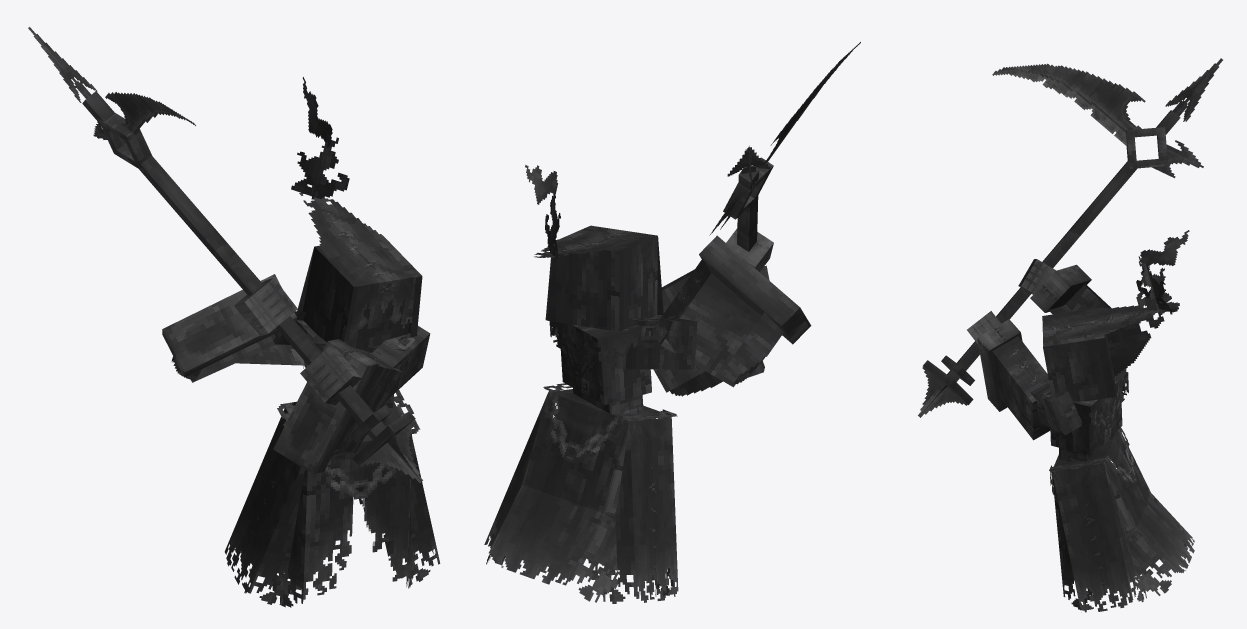
The model's file is Wraith_Statue_Trophy_Burnt_Trunk.glb.
3 views of the same model, side by side, from view 1: azimuth 30°, elevation 25°; view 2: azimuth 150°, elevation 25°; view 3: azimuth 270°, elevation 25° (orthographic). The views are drawn at different scales.
Parts seen in each view (by area): view 1: Head, Handle, Cloth-Front, L-Sleeve, R-Sleeve, Cloth-Front2, Hood-Back, Cloth-R2, Cloth-R, R-Hand, L-Hand, Cloth-R2-Front (+16 smaller); view 2: Head, Cloth-Back2, Cloth-Back, R-Forearm, Cloth-R, R-Sleeve, Cloth-R2, R-Arm, Chest, Chest-Hood, Cloth-Back2-R, Belt-Back (+19 smaller); view 3: Cloth-L, Hood-L, Cloth-L2, L-Forearm, Handle, Blade_Top, Cloth-Back2, Cloth-Back, Hood-Back2, Chest, L-Arm, Hood-Back (+22 smaller).
Boxes of the visible parts, x1,y1,x2,y2 form: Head: (303, 235, 422, 343); Handle: (82, 91, 386, 439); Cloth-Front: (305, 434, 411, 536); L-Sleeve: (273, 339, 378, 473); R-Sleeve: (162, 274, 296, 377); Cloth-Front2: (303, 521, 408, 599); Hood-Back: (299, 181, 392, 258); Cloth-R2: (224, 485, 275, 593); Cloth-R: (252, 408, 300, 527); R-Hand: (234, 278, 297, 336); L-Hand: (300, 346, 364, 405); Cloth-R2-Front: (248, 528, 301, 604); Head: (552, 225, 657, 331); Cloth-Back2: (489, 484, 603, 585); Cloth-Back: (522, 392, 629, 513); R-Forearm: (652, 259, 761, 387); Cloth-R: (629, 417, 675, 517); R-Sleeve: (699, 235, 811, 344); Cloth-R2: (633, 512, 678, 602); R-Arm: (610, 318, 697, 369); Chest: (560, 327, 651, 404); Chest-Hood: (549, 317, 649, 369); Cloth-Back2-R: (571, 513, 619, 602); Belt-Back: (544, 390, 626, 463); Cloth-L: (1052, 462, 1119, 546); Hood-L: (1043, 336, 1115, 401); Cloth-L2: (1067, 538, 1132, 612); L-Forearm: (992, 336, 1050, 440); Handle: (947, 110, 1180, 381); Blade_Top: (1001, 63, 1145, 132); Cloth-Back2: (1136, 493, 1194, 573); Cloth-Back: (1104, 430, 1150, 527); Hood-Back2: (1106, 305, 1179, 375); Chest: (1050, 399, 1122, 455); L-Arm: (1030, 382, 1082, 435); Hood-Back: (1084, 301, 1179, 339).
Bounding box in the file's own units: 10.07 × 17.27 × 10.89.
Materials: 1 (1 with a texture image).
